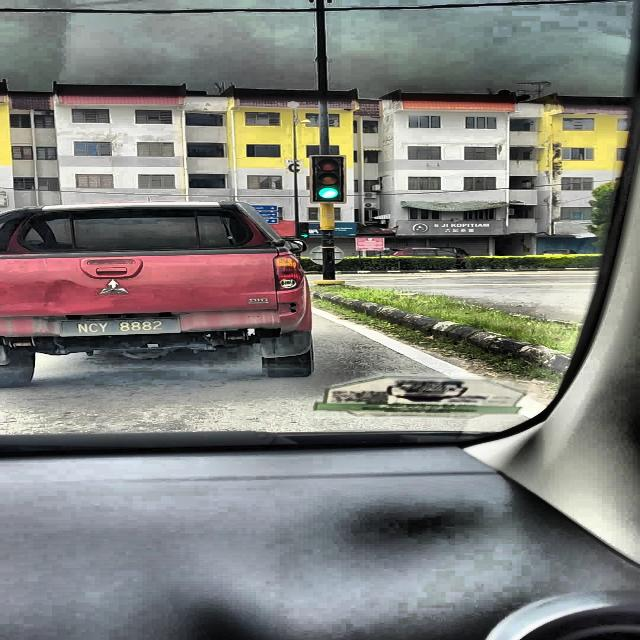green: (310, 155, 346, 203), (298, 222, 309, 238)
